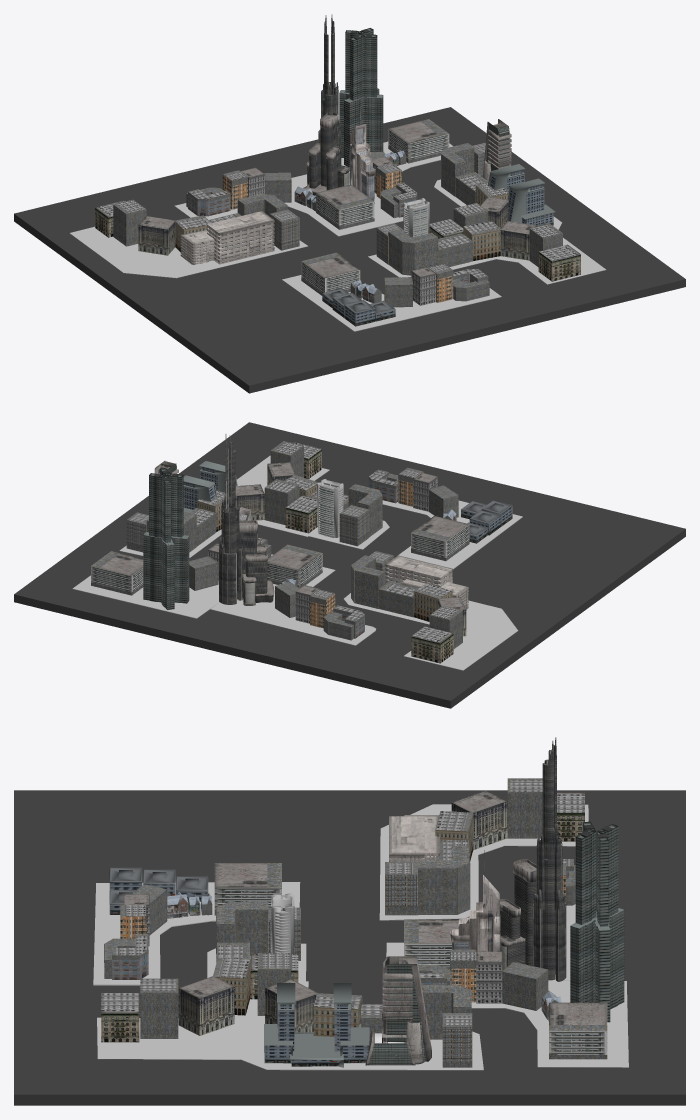
The model's file is TheCity.obj.
3 renders of one model, top to bottom at view 1: azimuth 30°, elevation 25°; view 2: azimuth 150°, elevation 25°; view 3: azimuth 270°, elevation 25°, orthographic. The views are drawn at different scales.
Parts seen in each view (by area): view 1: object 3, mesh01, bldgs2; view 2: object 3, mesh01, bldgs2; view 3: object 3, mesh01, bldgs2.
Boxes of the visible parts, <box> form: object 3: <box>14,107,685,393</box>; mesh01: <box>70,119,606,331</box>; bldgs2: <box>180,14,555,326</box>; object 3: <box>14,422,685,708</box>; mesh01: <box>72,441,522,670</box>; bldgs2: <box>143,434,512,610</box>; object 3: <box>14,790,685,1105</box>; mesh01: <box>93,778,628,1070</box>; bldgs2: <box>109,737,624,1067</box>.
Size of the model in its own units: 2277 by 871 by 2124.
